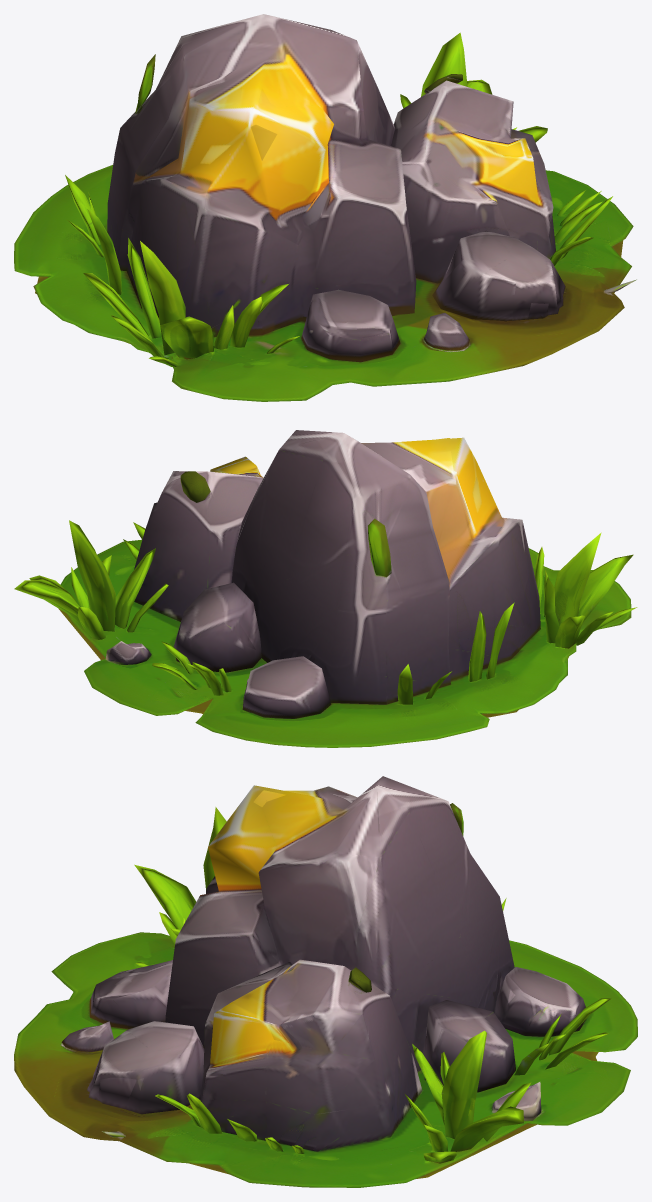
The model's file is etapa50.glb.
The picture shows the model from 3 angles, top to bottom: view 1: azimuth 30°, elevation 25°; view 2: azimuth 150°, elevation 25°; view 3: azimuth 270°, elevation 25°; orthographic projection. The views are drawn at different scales.
Bounding box in the file's own units: 1 × 0.4518 × 0.9917.
1 material, 1 textured.
